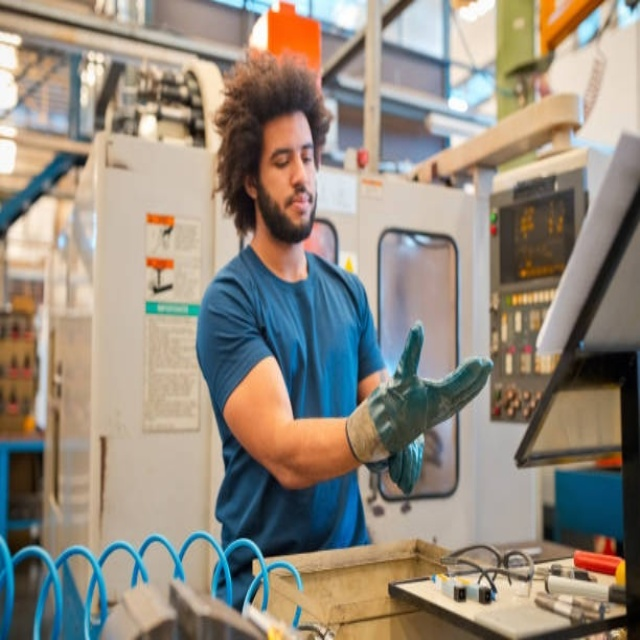Guantes: (345, 318, 500, 502)
Sin_gafas: (261, 132, 318, 173)
Sin_mascara: (282, 187, 317, 224)
